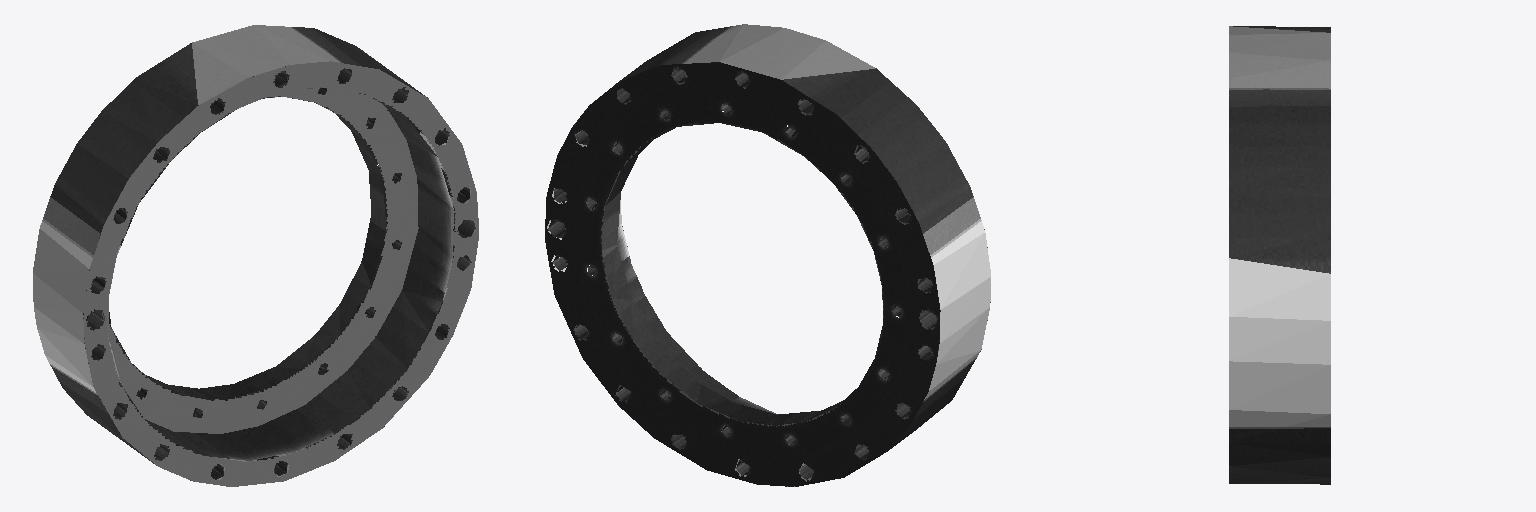
3 views of the same model, side by side, from view 1: azimuth 30°, elevation 25°; view 2: azimuth 150°, elevation 25°; view 3: azimuth 270°, elevation 25° (orthographic).
Visible parts, largest first — view 1: Case_GearBox4_5_6_-_GearBox5_Cover-1.001; view 2: Case_GearBox4_5_6_-_GearBox5_Cover-1.001; view 3: Case_GearBox4_5_6_-_GearBox5_Cover-1.001.
Boxes of the visible parts, <box> form: Case_GearBox4_5_6_-_GearBox5_Cover-1.001: <box>33,25,478,486</box>; Case_GearBox4_5_6_-_GearBox5_Cover-1.001: <box>545,24,990,486</box>; Case_GearBox4_5_6_-_GearBox5_Cover-1.001: <box>1229,26,1330,484</box>.
Size of the model in its own units: 0.2894 by 0.2898 by 0.0643.
1 materials, 1 textured.